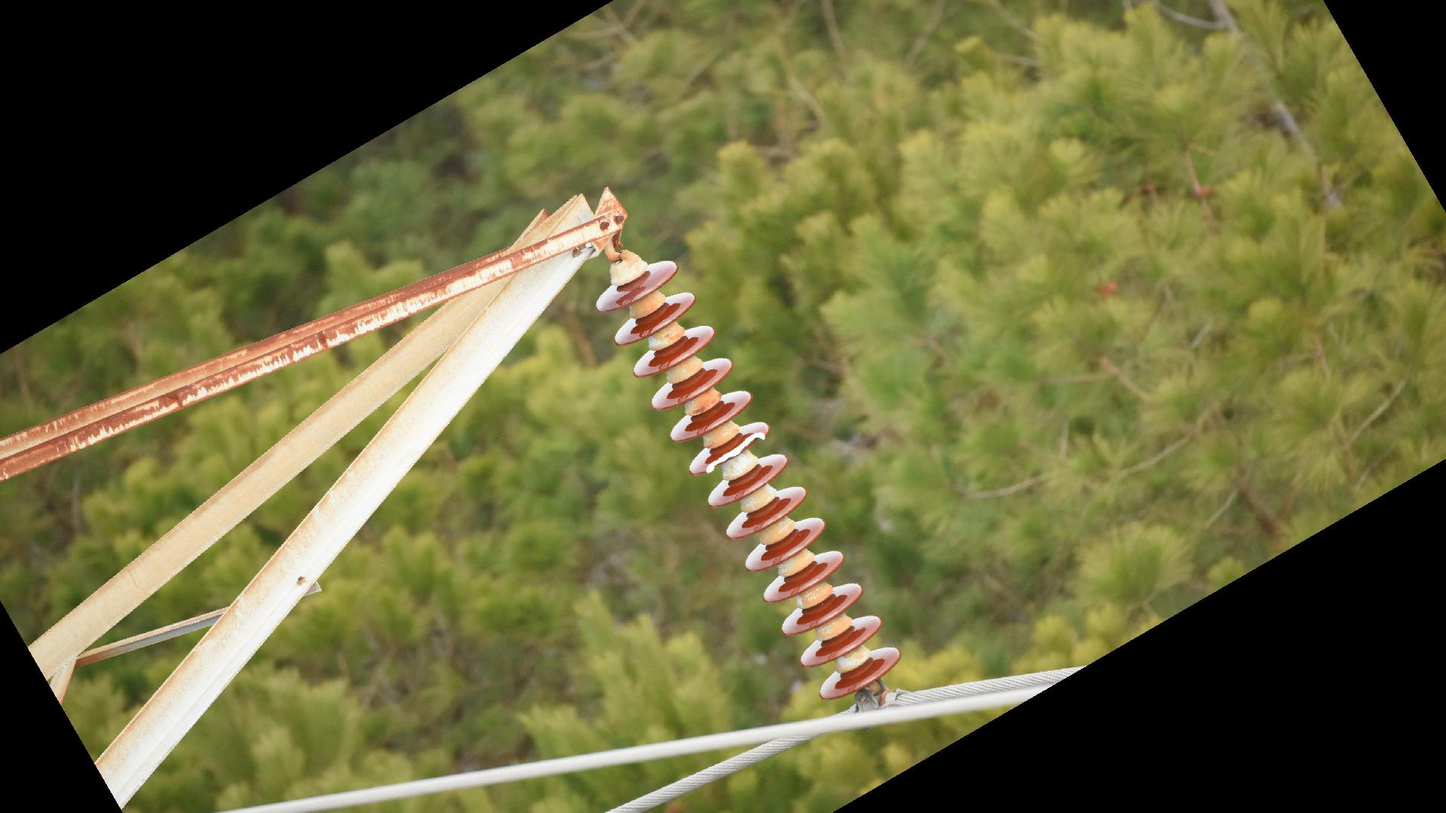insulator: (590, 256, 905, 706)
insulator_breakage: (700, 428, 770, 477)
